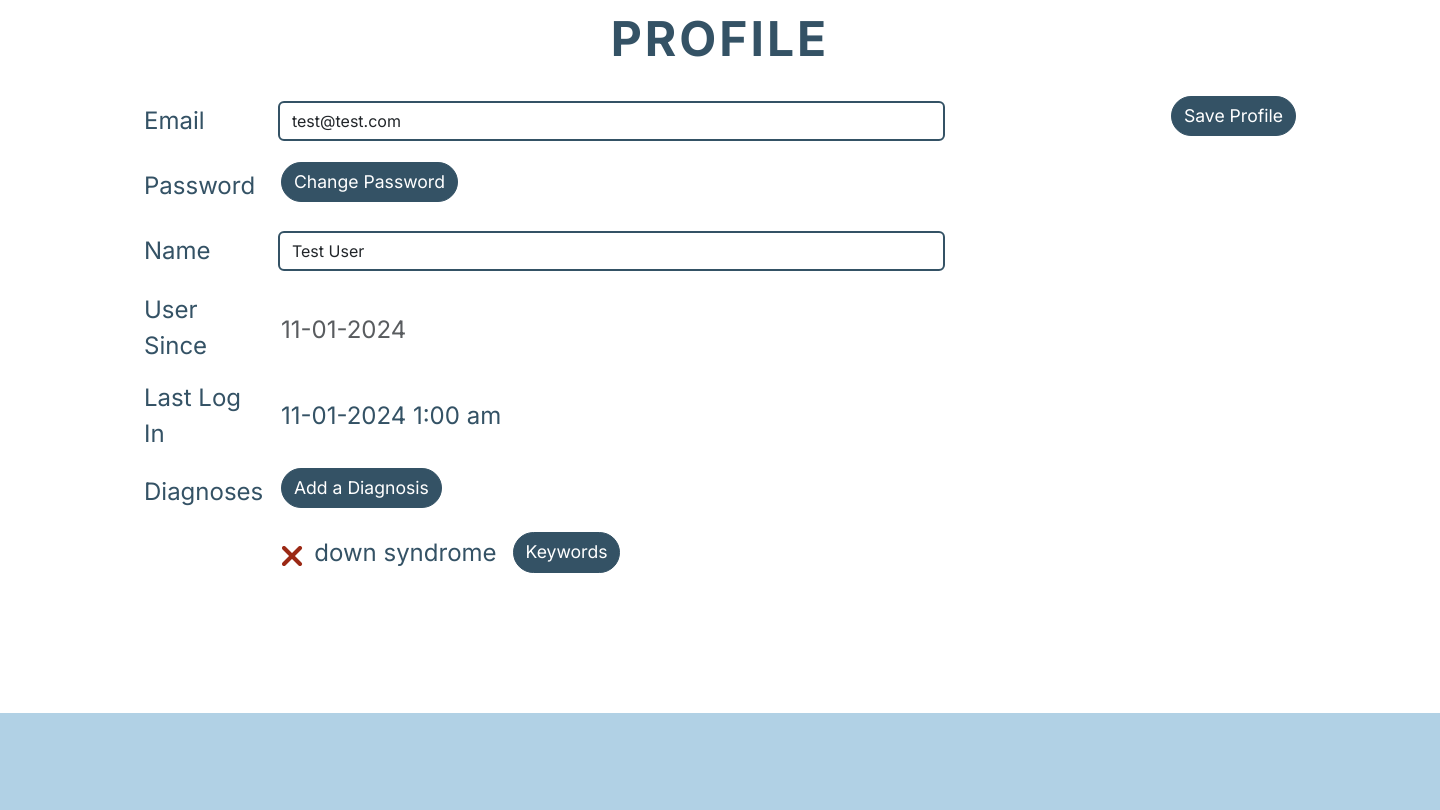
displays an error from the api on user/diagnosis disconnect
The width and height of the screenshot is (1440, 810).
Click the button with test id "delete-button".
click(294, 557)  # box 282,539 -> 306,575
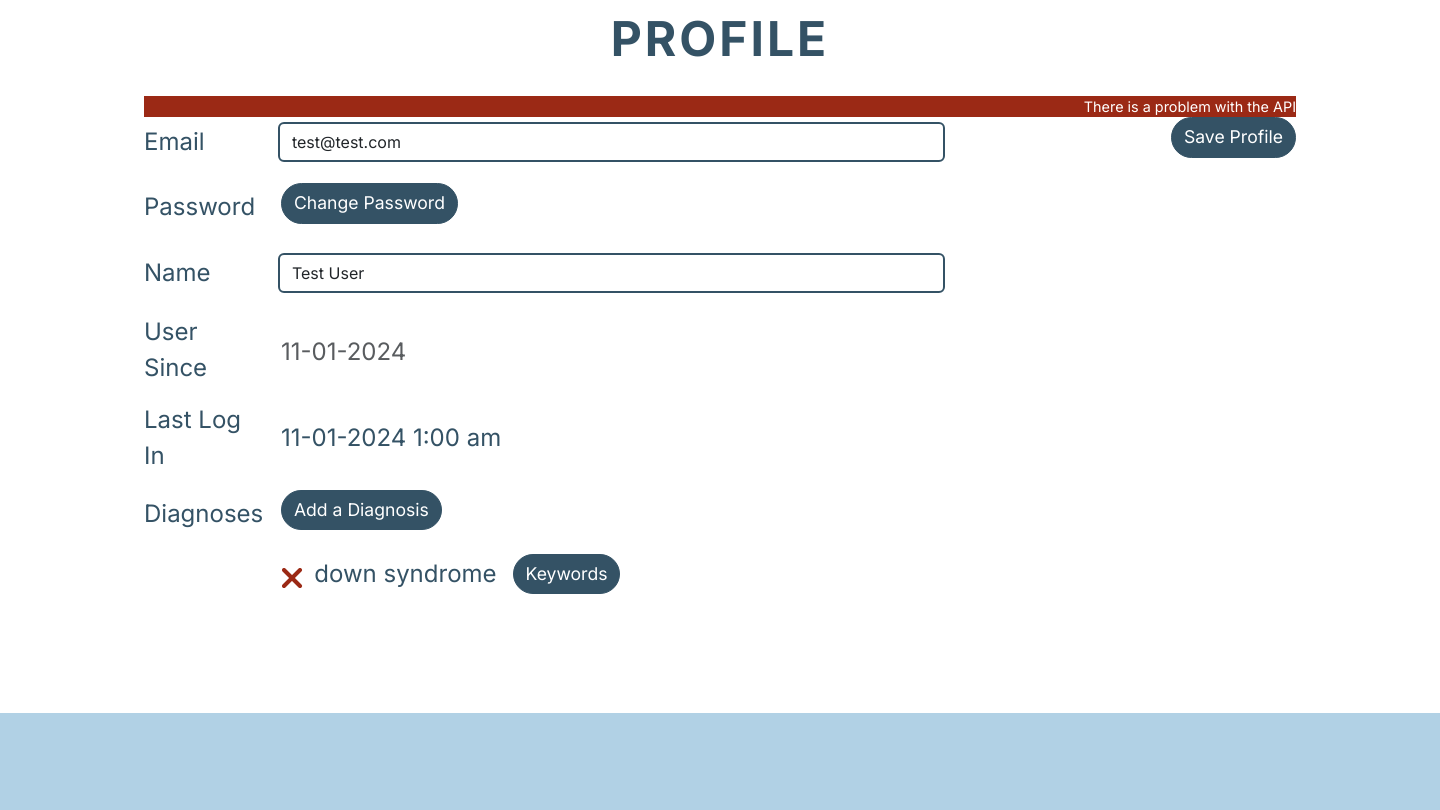
Expected: the text "down syndrome" is shown, 314,556 -> 496,592
Result: the text "There is a problem with the API" is shown at 144,96 -> 1296,117
